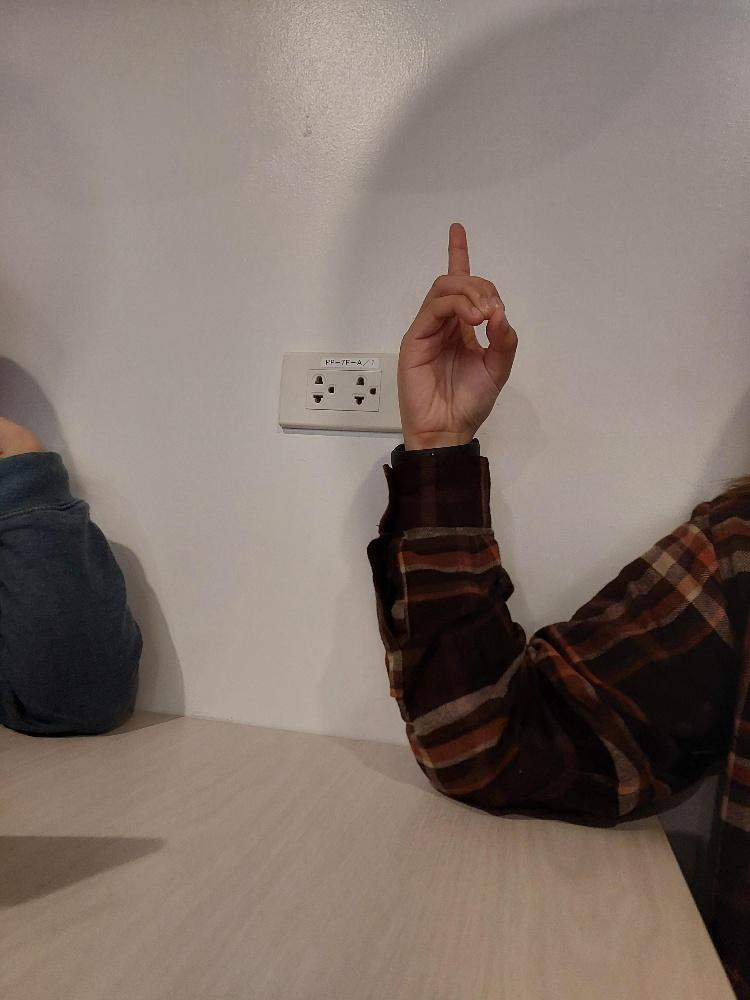d: (390, 210, 526, 452)
